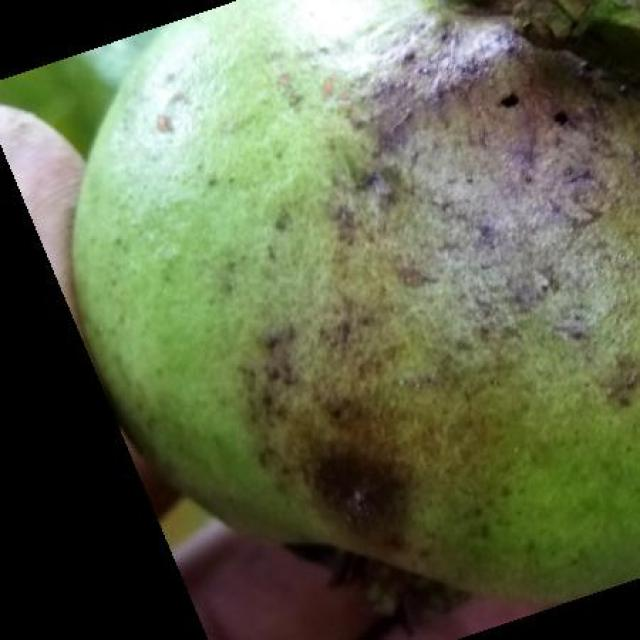Phytopthora: (265, 19, 640, 528)
